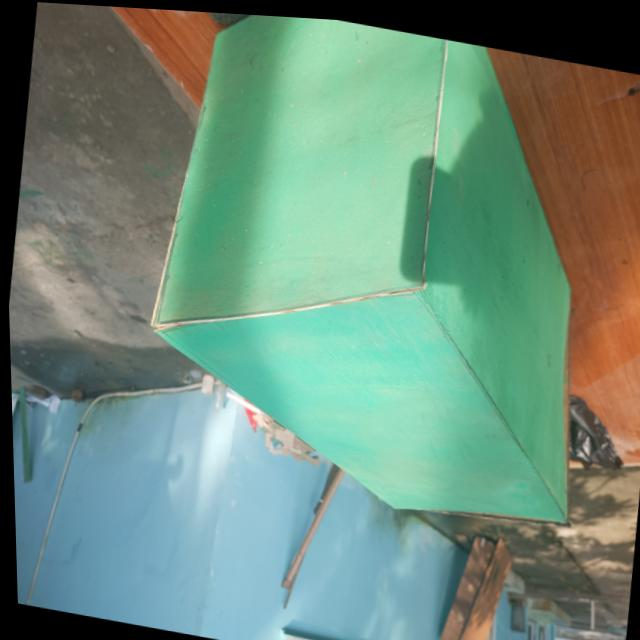green_box: (108, 5, 632, 568)
